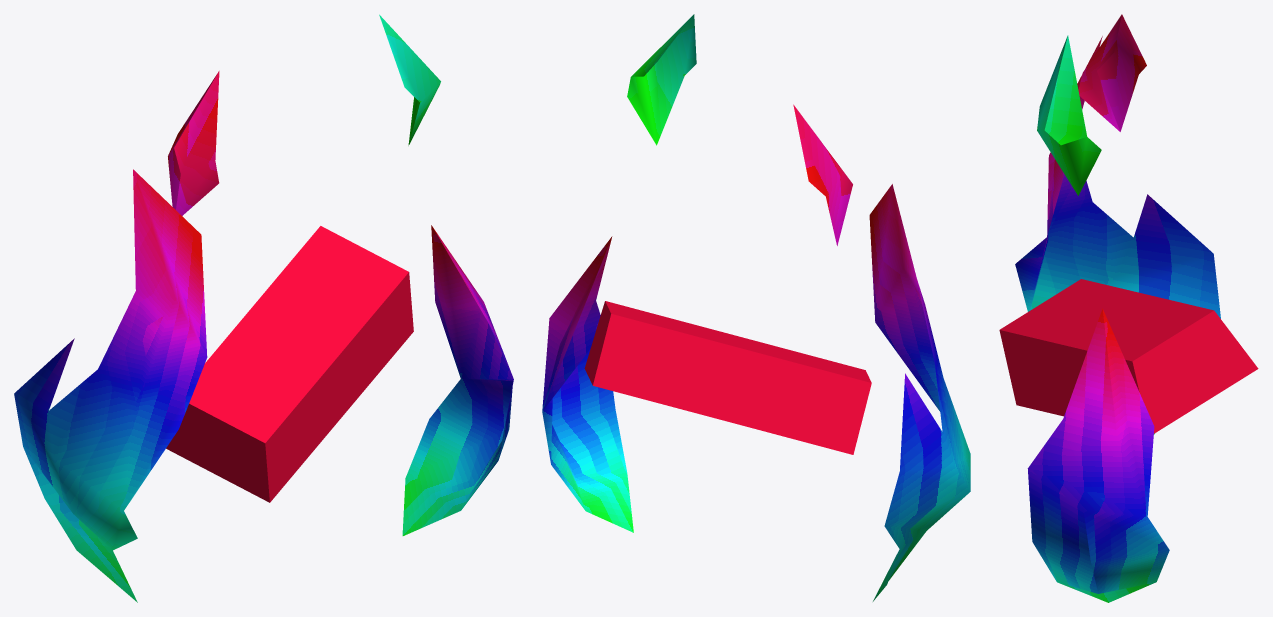
Rendered from proud_soul_ingot.obj.
3 views of the same model, side by side, from view 1: azimuth 30°, elevation 25°; view 2: azimuth 150°, elevation 25°; view 3: azimuth 270°, elevation 25° (orthographic). The views are drawn at different scales.
Visible parts, largest first — view 1: obj4, obj18, Ingot, obj16, CrystalCore, background, soulSet, TrapezohedronBase1, obj6, fireFront, obj19, fireBack (+14 smaller); view 2: obj1, Ingot, obj3, obj4, CrystalBase1, CrystalBase, background, fireFront, obj19, obj20, obj14, obj10 (+15 smaller); view 3: Ingot, obj4, obj21, obj11, obj18, obj12, obj19, CrystalBase, CrystalBase1, obj14, obj6, obj13 (+15 smaller).
Boxes of the visible parts, x1,y1,x2,y2 form: obj4: (189, 226, 408, 442); obj18: (265, 272, 413, 502); Ingot: (14, 16, 513, 600); obj16: (166, 403, 269, 502); CrystalCore: (53, 416, 132, 513); background: (133, 169, 207, 357); soulSet: (405, 419, 504, 480); TrapezohedronBase1: (124, 358, 206, 510); obj6: (49, 369, 132, 457); fireFront: (133, 299, 206, 415); obj19: (431, 225, 480, 378); fireBack: (133, 170, 175, 335); obj1: (593, 314, 871, 454); Ingot: (545, 17, 969, 576); obj3: (552, 409, 627, 473); obj4: (605, 301, 871, 382); CrystalBase1: (900, 373, 953, 470); CrystalBase: (884, 465, 970, 525); background: (869, 184, 903, 321); fireFront: (875, 268, 935, 371); obj19: (542, 237, 611, 410); obj20: (574, 473, 633, 532); obj14: (552, 349, 615, 419); obj10: (793, 105, 842, 196); Ingot: (1018, 16, 1212, 602); obj4: (1000, 279, 1213, 361); obj21: (1132, 310, 1258, 433); obj11: (1028, 434, 1147, 516); obj18: (999, 330, 1139, 416); obj12: (1028, 309, 1116, 468); obj19: (1102, 309, 1154, 515); CrystalBase: (1109, 254, 1220, 318); CrystalBase1: (1118, 194, 1213, 275); obj14: (1028, 469, 1090, 560); obj6: (1049, 202, 1133, 275); obj13: (1083, 510, 1169, 560).
Bounding box in the file's own units: 1.13 × 1.36 × 0.5749.
